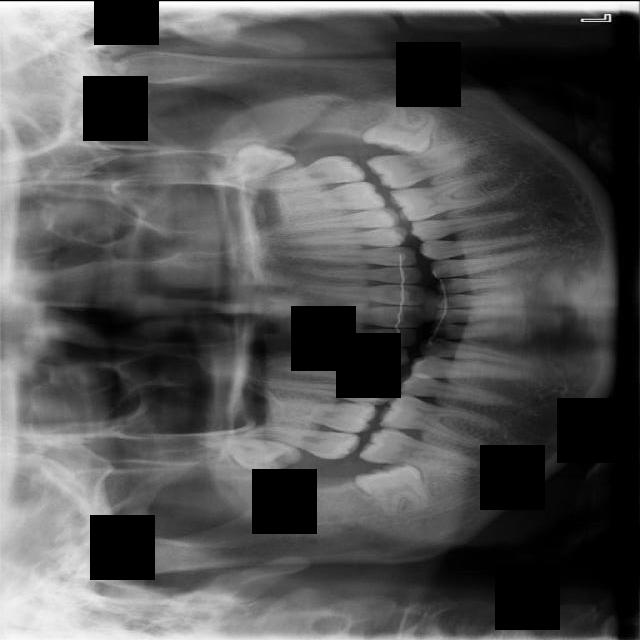3M ESPE Implant: (194, 430, 304, 477)
73: (589, 34, 603, 42)
BioHorizons Implant: (238, 150, 369, 197)
BioLife Implant: (204, 130, 298, 194)
Biomet 3i Implant: (361, 99, 438, 159)
Blue Sky Bio Implant: (365, 137, 480, 194)
Caries: (241, 421, 362, 462)
Implant: (359, 423, 478, 478)
Keystone Dental Implant: (353, 454, 433, 529)
